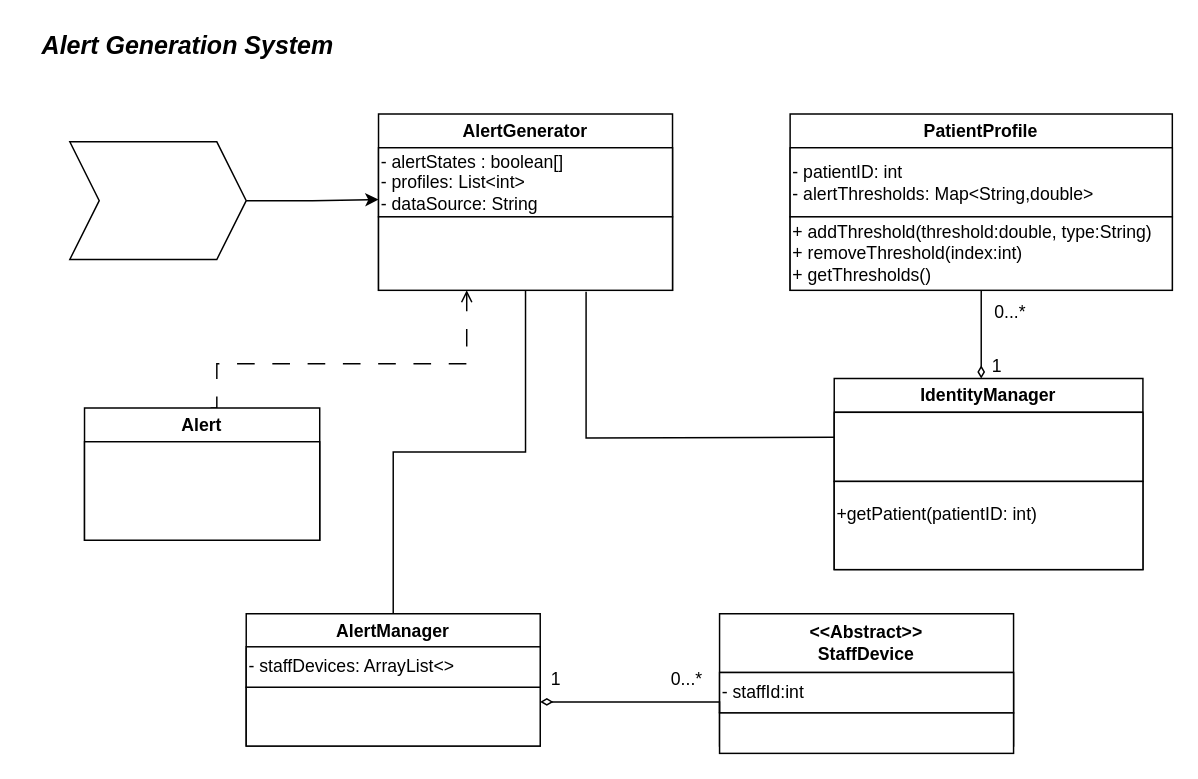
Some shapes in this 1198 by 779 pixel diagram are drawn without their labels. Each missing label, with the centre of its shape:
"+ displayMessage()" belongs at (x=866, y=732).
"+ generate() - fetchData() - checkThresholds(patientId:int)" belongs at (x=525, y=252).
"+ raiseAlert(patientId:int, type:string)" belongs at (x=392, y=716).
"- patients: ArrayList<PatientIdentifer> - profile: ArrayList<PatientProfile>" belongs at (x=988, y=446).
"- type:String - recordedValue: double - timestamp: int - patientId: int" belongs at (x=201, y=490).
"External Data Sources" belongs at (x=157, y=199).
